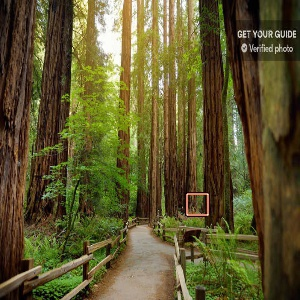square: (184, 192, 210, 218)
